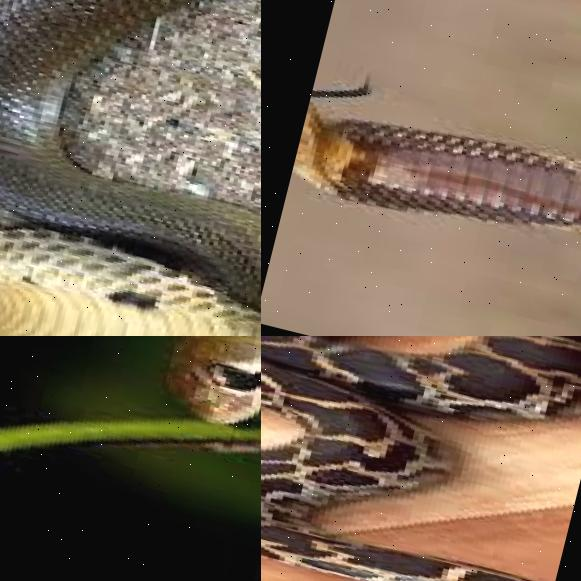snake: (261, 43, 581, 336), (0, 0, 261, 336), (261, 336, 581, 581), (104, 336, 261, 502)
